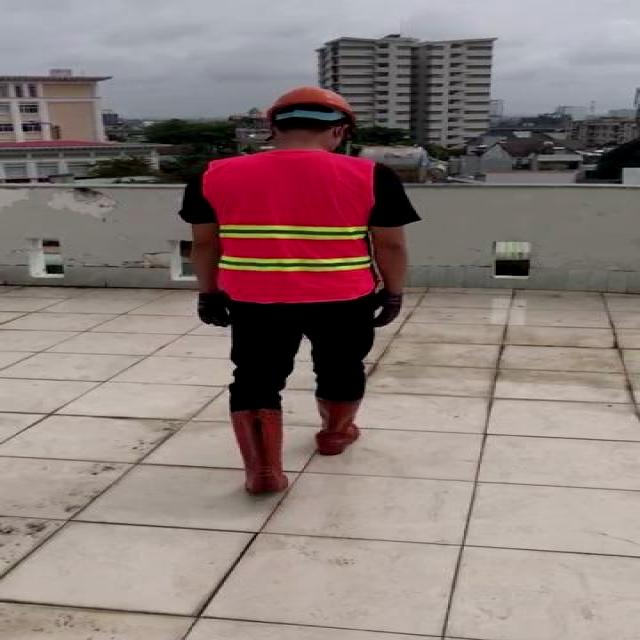boots: (230, 406, 292, 493), (315, 393, 366, 455)
hand_glove: (373, 290, 407, 327), (197, 296, 231, 327)
head_helmet: (262, 84, 362, 123)
person: (163, 78, 425, 510)
vest: (206, 151, 379, 298)
